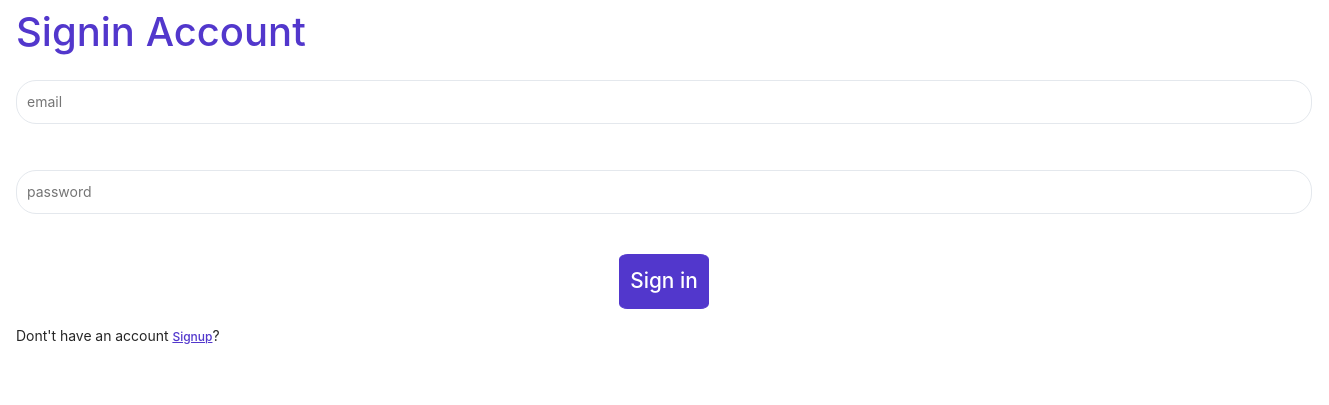
Test: to test Sign in page › check correct email is displayed show error message in signin component
Type "cmmaran" into the field with test id "email" at (664,102), box [16, 80, 1312, 124]
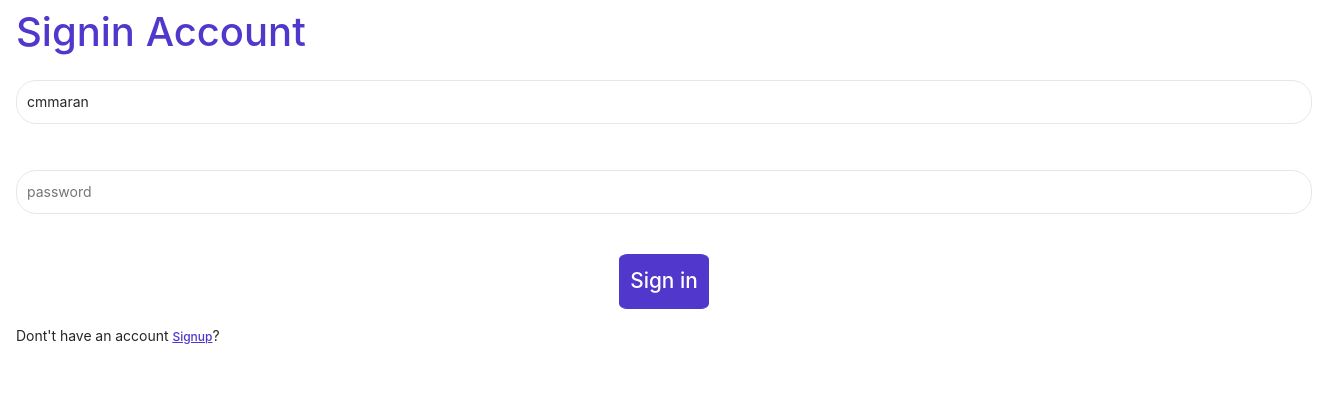
Replace the text in the field with test id "email" with "cmmaran102@.co" at (664,102), box [16, 80, 1312, 124]
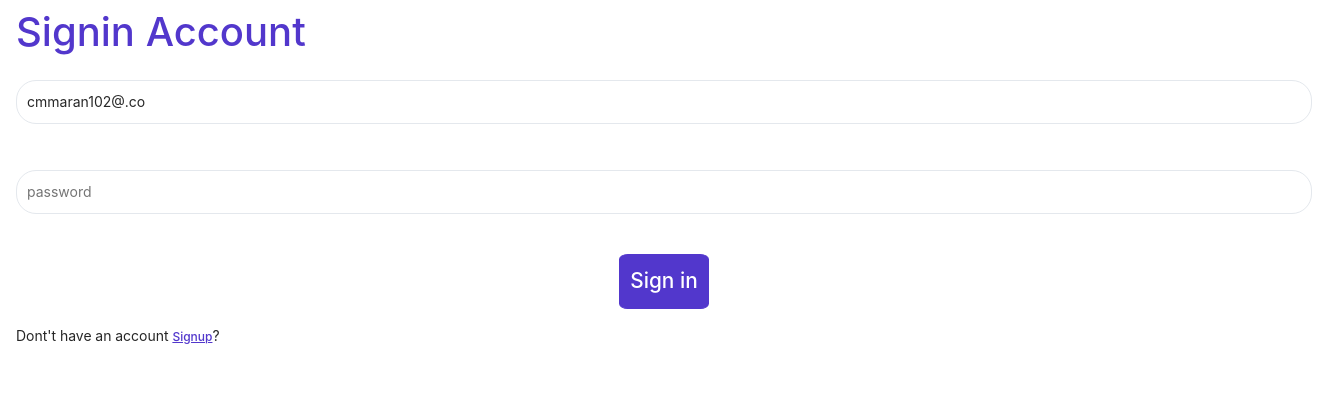
Replace the text in the field with test id "email" with "cmmaran102.com" at (664,102), box [16, 80, 1312, 124]
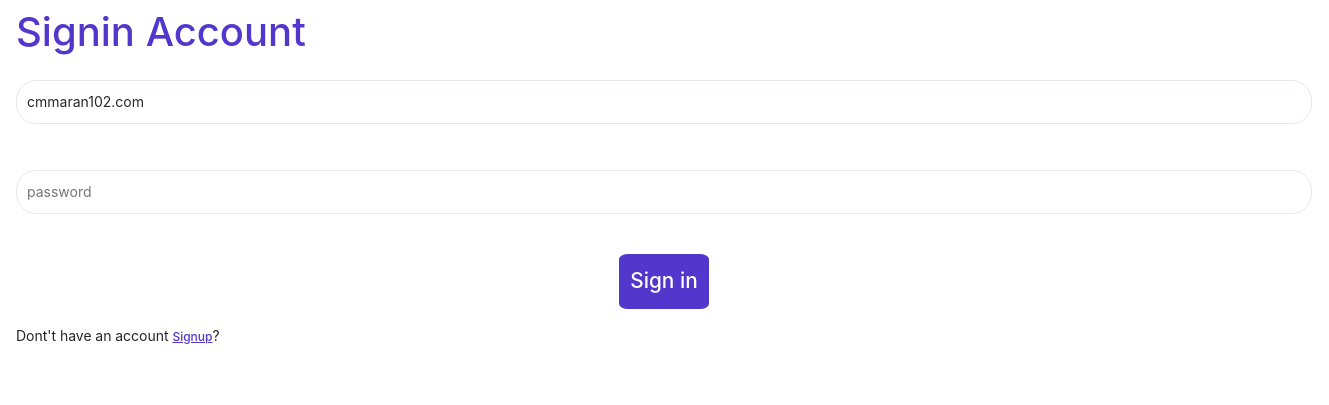
Click the button "Sign in" at (664,281), box [619, 254, 709, 309]
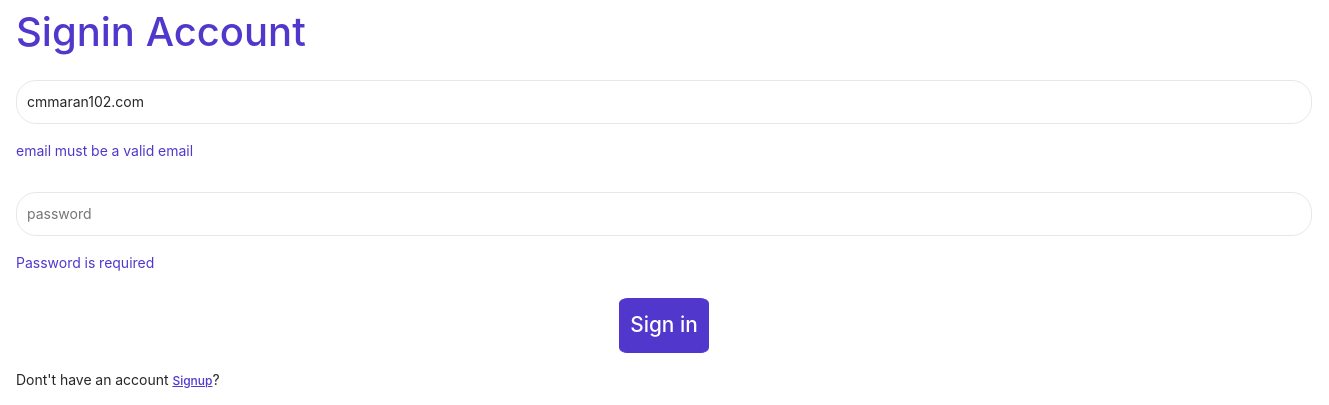
Expected: the text with test id "error-test1" reads "email must be a valid email", [16, 142, 193, 159]
